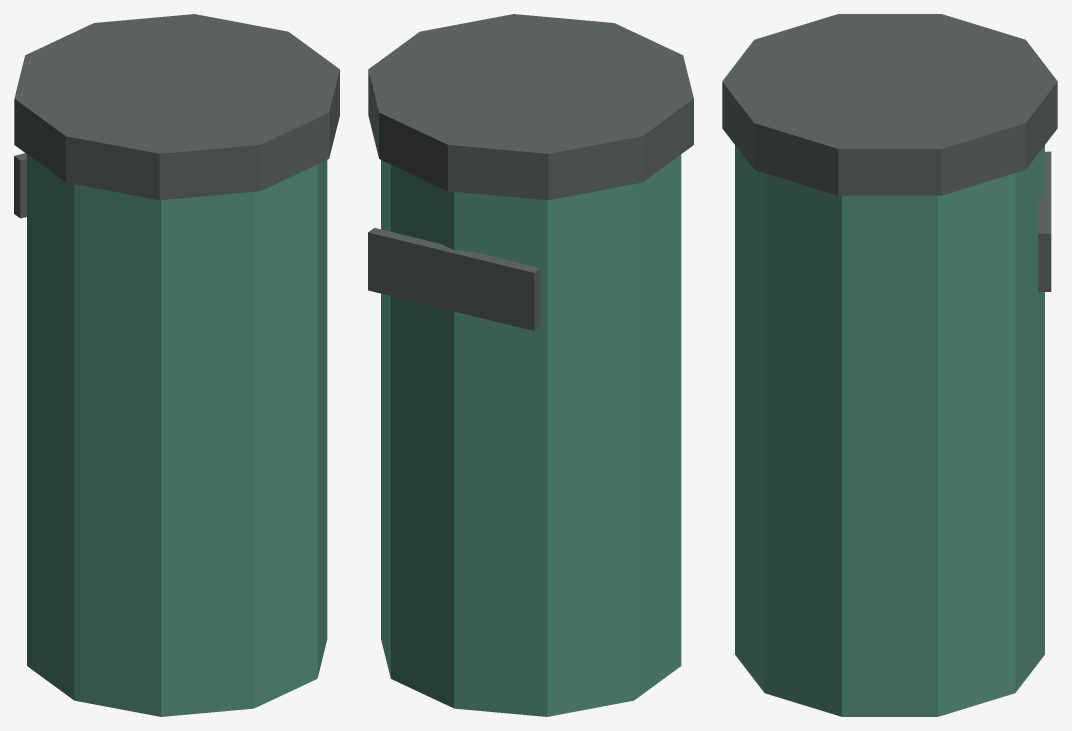
File: bin.glb
3 views of the same model, side by side, from view 1: azimuth 30°, elevation 25°; view 2: azimuth 150°, elevation 25°; view 3: azimuth 270°, elevation 25° (orthographic).
Parts seen in each view (by area): view 1: bin; view 2: bin; view 3: bin.
Part boxes in pixels (x1=…): bin: x1=14, y1=14, x2=339, y2=716; bin: x1=368, y1=14, x2=693, y2=716; bin: x1=722, y1=14, x2=1057, y2=716.
Size of the model in its own units: 0.4945 by 0.98 by 0.52.
